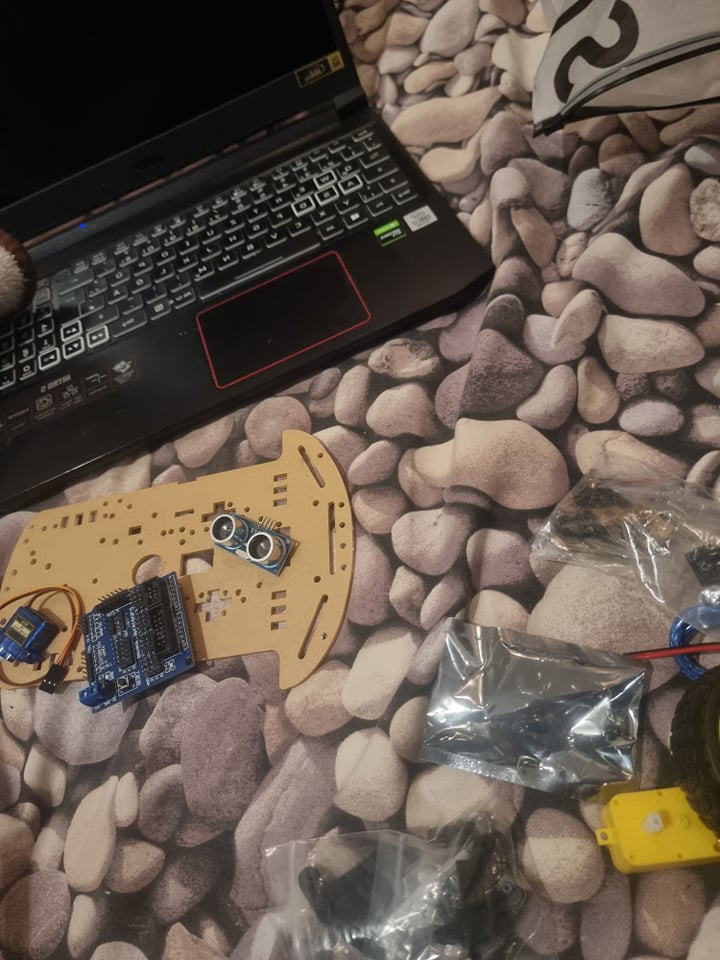5V EXPANSION: (70, 570, 197, 718)
SENSOR: (201, 509, 300, 576)
